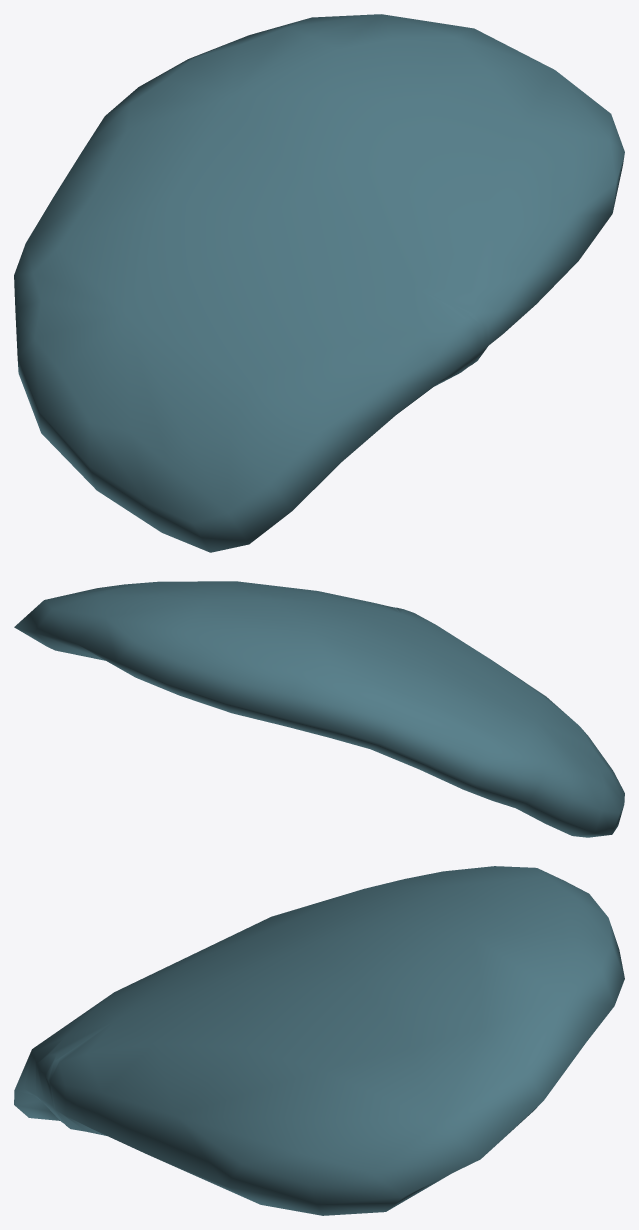
Rendered from Extensor_digitorum_longus_&_brevis_on_3d_middle_phalanx.l_Gener.glb.
3 views of the same model, one above another, from view 1: azimuth 30°, elevation 25°; view 2: azimuth 150°, elevation 25°; view 3: azimuth 270°, elevation 25° (orthographic). The views are drawn at different scales.
Parts seen in each view (by area): view 1: Extensor_digitorum_longus_&_brevis_on_3d_middle_phalanx.l_Ge; view 2: Extensor_digitorum_longus_&_brevis_on_3d_middle_phalanx.l_Ge; view 3: Extensor_digitorum_longus_&_brevis_on_3d_middle_phalanx.l_Ge.
Part boxes in pixels (x1,y1,x2,y2): Extensor_digitorum_longus_&_brevis_on_3d_middle_phalanx.l_Ge: [14, 14, 624, 552]; Extensor_digitorum_longus_&_brevis_on_3d_middle_phalanx.l_Ge: [14, 581, 624, 837]; Extensor_digitorum_longus_&_brevis_on_3d_middle_phalanx.l_Ge: [14, 866, 624, 1215].
Bounding box in the file's own units: 0.00493 × 0.0023 × 0.00359.
